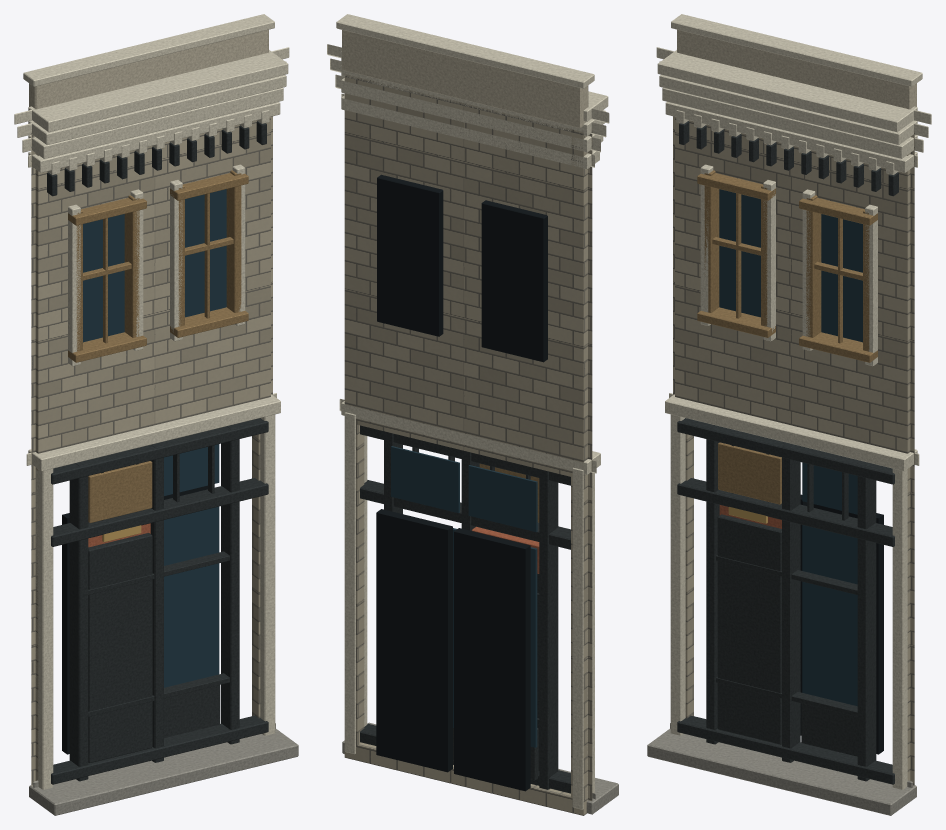
File: BUSS10_lod1.glb
3 views of the same model, side by side, from view 1: azimuth 30°, elevation 25°; view 2: azimuth 150°, elevation 25°; view 3: azimuth 330°, elevation 25° (orthographic). The views are drawn at different scales.
Parts seen in each view (by area): view 1: BUSS10_FRONT_LOD1; view 2: BUSS10_FRONT_LOD1; view 3: BUSS10_FRONT_LOD1.
Boxes of the visible parts, x1,y1,x2,y2 form: BUSS10_FRONT_LOD1: (14,14,298,815); BUSS10_FRONT_LOD1: (327,14,618,815); BUSS10_FRONT_LOD1: (647,14,931,815).
Bounding box in the file's own units: 3.78 × 9.44 × 1.
11 materials, 8 textured.
